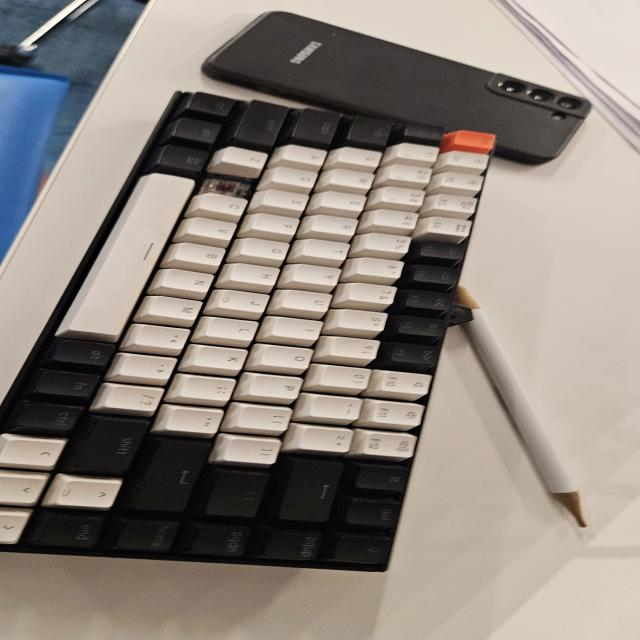C: (206, 176, 251, 196)
